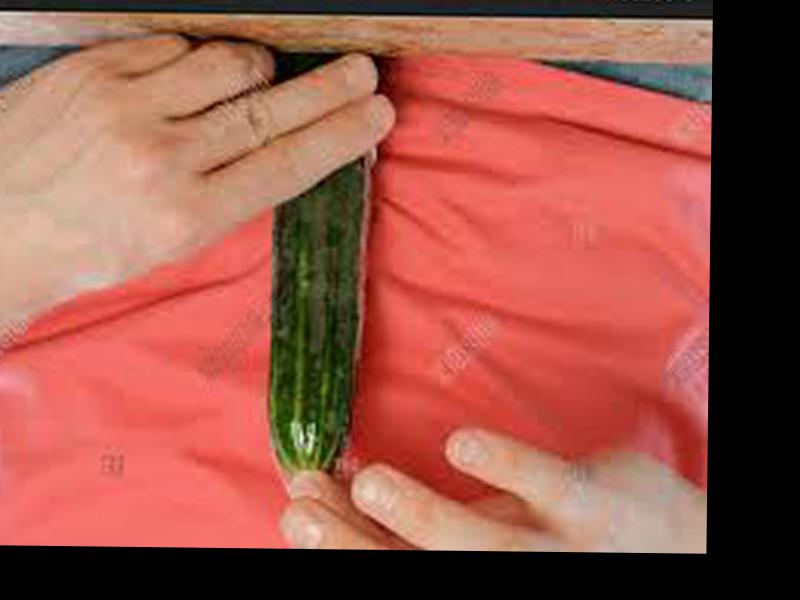Cucumber: (265, 152, 369, 473)
